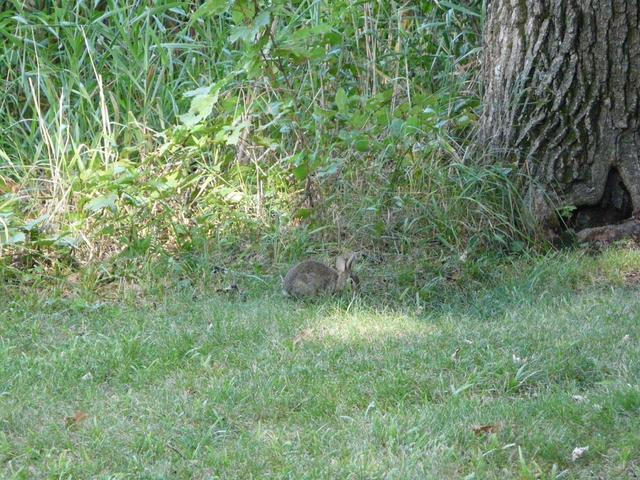rabbit: (270, 246, 376, 308)
